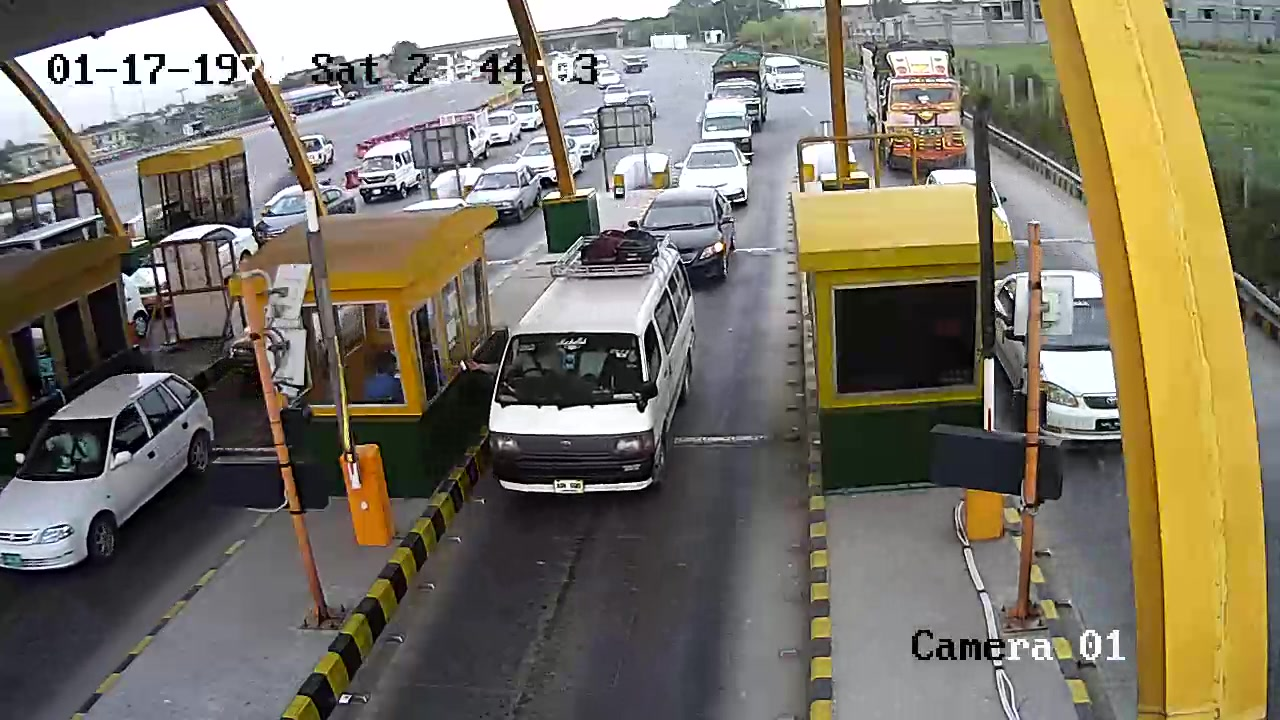F3: (486, 212, 702, 517)
